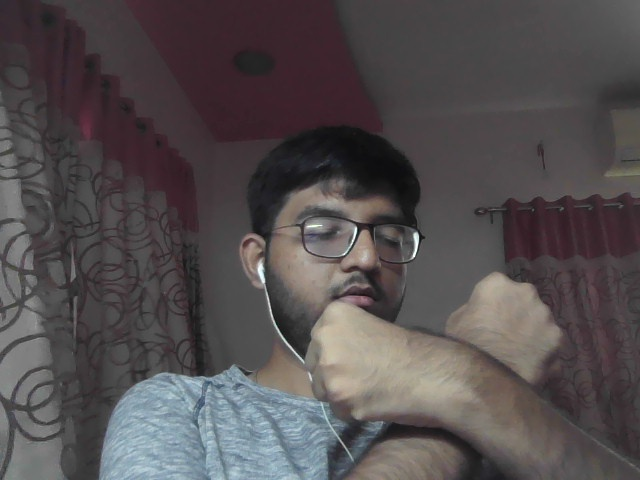પ્રેમ: (294, 270, 609, 479)
